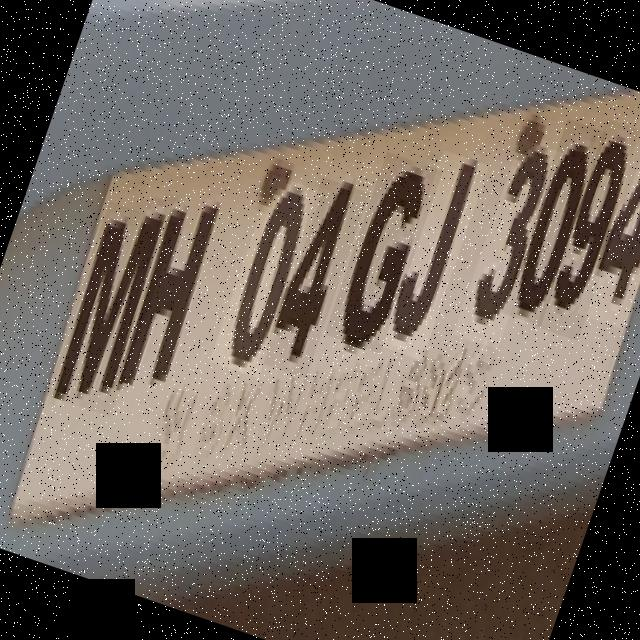0: (208, 175, 322, 378), (500, 118, 607, 326)
3: (452, 138, 564, 349)
4: (258, 177, 369, 379), (578, 98, 640, 329)
9: (535, 118, 640, 341)
G: (323, 152, 442, 355)
H: (106, 180, 234, 420)
J: (376, 150, 489, 360)
M: (43, 201, 176, 417)
